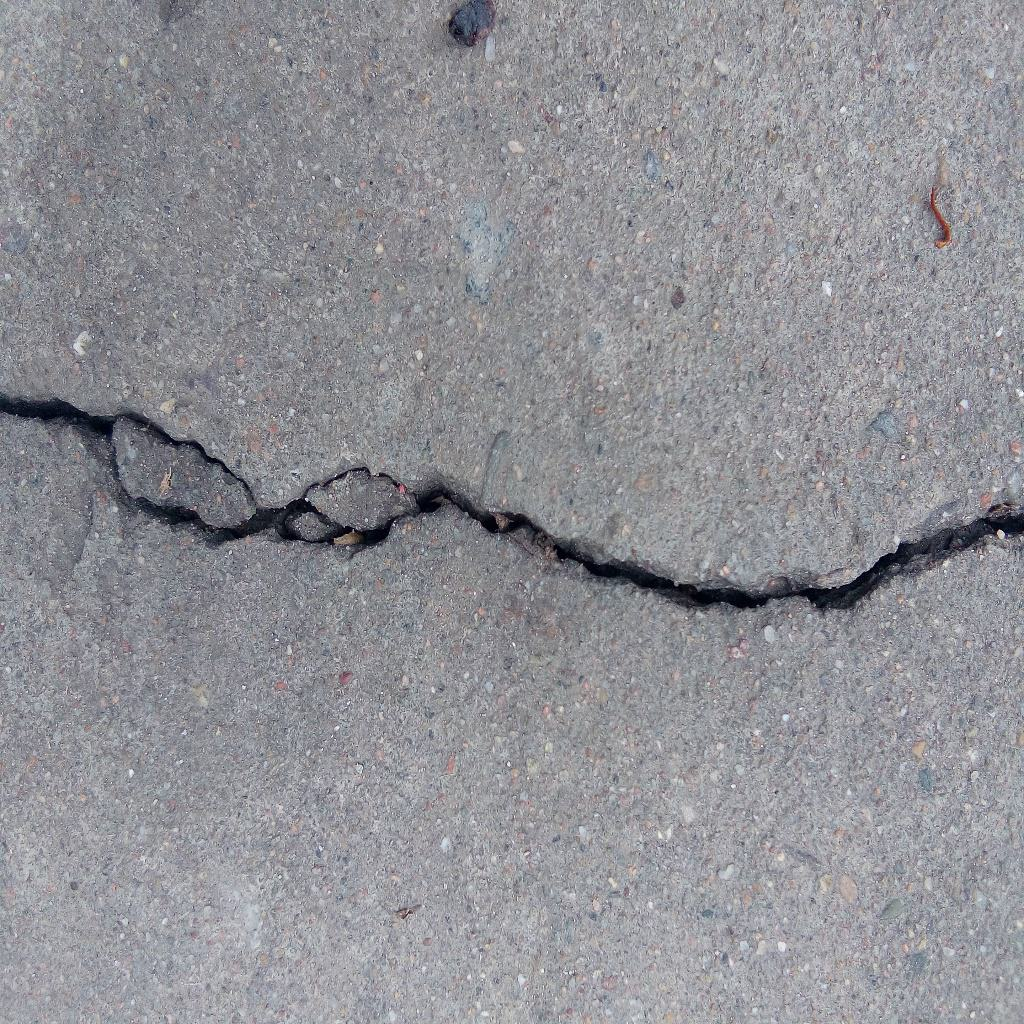Crack: (1, 393, 1024, 612)
